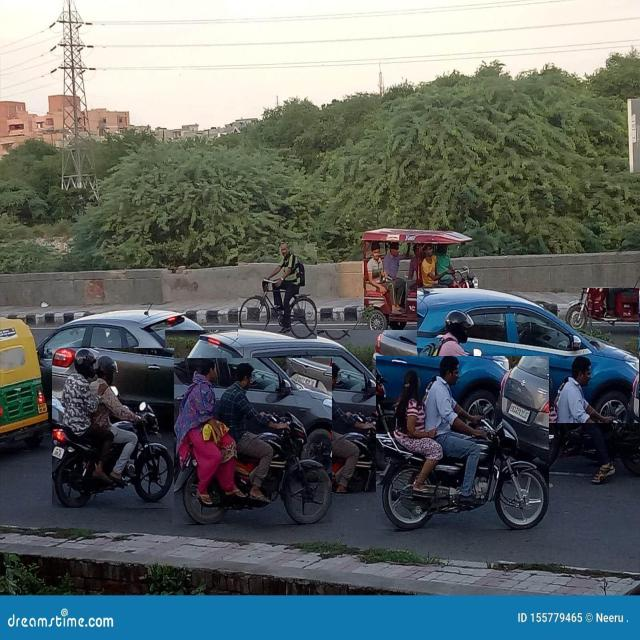autorickshaw: (361, 228, 491, 333)
bicycle: (239, 243, 317, 339)
car: (165, 330, 425, 492), (418, 289, 639, 423), (38, 310, 218, 414)
motorcycle: (376, 356, 549, 529), (172, 358, 332, 524), (52, 349, 174, 508), (538, 310, 640, 483)
